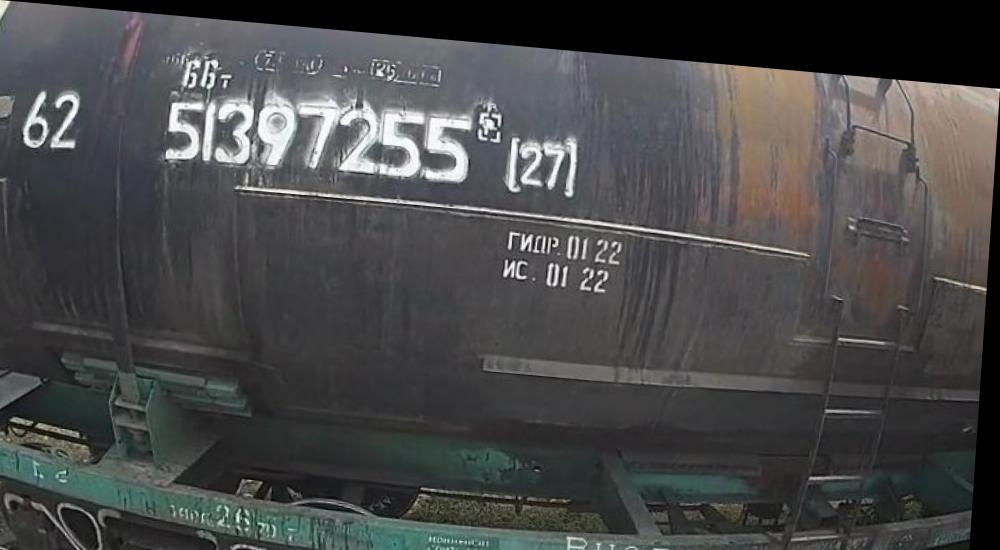Wagon-number: (167, 82, 481, 186)
